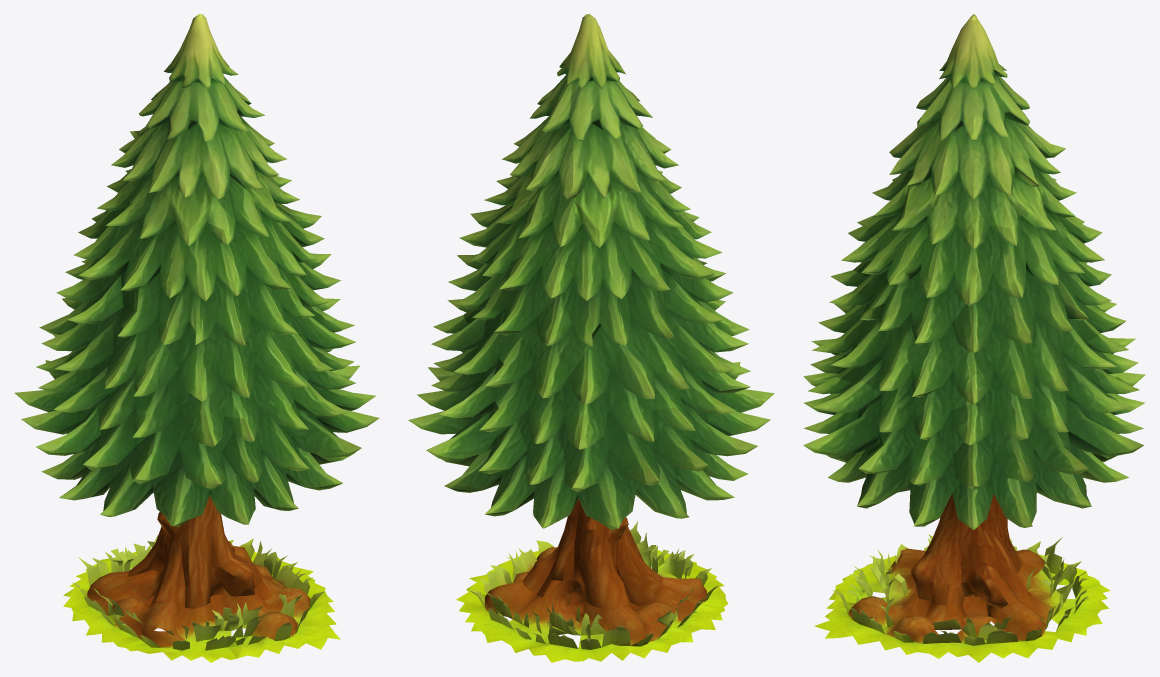
File: tree-pine-green.glb
3 views of the same model, side by side, from view 1: azimuth 30°, elevation 25°; view 2: azimuth 150°, elevation 25°; view 3: azimuth 270°, elevation 25° (orthographic).
Visible parts, largest first — view 1: Tree_Pine_Green; view 2: Tree_Pine_Green; view 3: Tree_Pine_Green.
Part boxes in pixels (left/top/right/bottom): Tree_Pine_Green: left=14, top=14, right=379, bottom=662; Tree_Pine_Green: left=408, top=14, right=774, bottom=662; Tree_Pine_Green: left=803, top=14, right=1145, bottom=662.
Size of the model in its own units: 6.39 by 11 by 5.77.
Materials: 1 (1 with a texture image).
